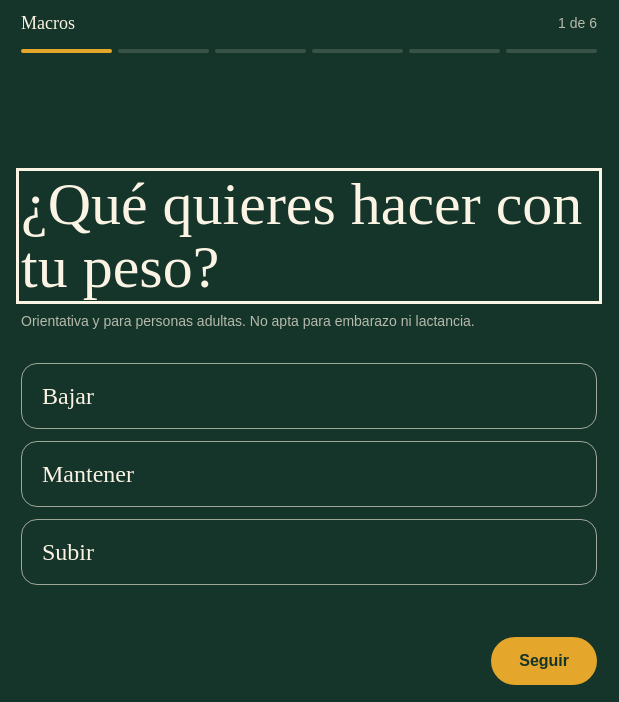
it: Asistente › ofrece Mujer y Hombre y explica por qué pregunta el sexo
The image size is (619, 702).
Click the radio button labelled "Bajar": (68, 396) [21,363,597,429]
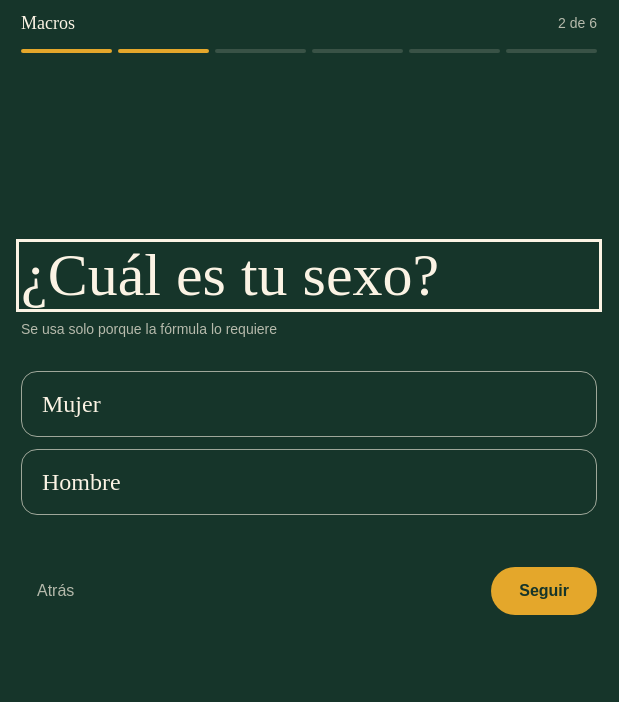
Expected: the number of radio buttons is 2, [21,370,597,436]; [21,448,597,514]
Expected: the text "Se usa solo porque la fórmula lo requiere" is shown, [21,320,277,336]
